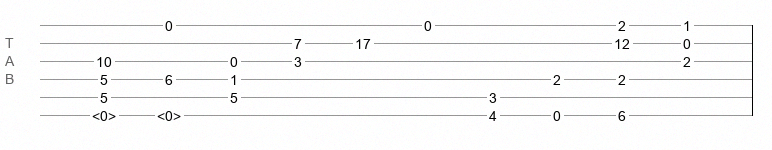0: (165, 18, 173, 28), (230, 54, 238, 64), (424, 18, 432, 28), (553, 108, 561, 118), (683, 36, 691, 46)
1: (230, 72, 238, 82), (683, 18, 691, 28)
10: (96, 54, 112, 64)
12: (614, 36, 630, 46)
17: (355, 36, 371, 46)
2: (553, 72, 561, 82), (618, 18, 626, 28), (618, 72, 626, 82), (683, 54, 691, 64)
3: (294, 54, 302, 64), (489, 90, 497, 100)
4: (489, 108, 497, 118)
5: (100, 72, 108, 82), (100, 90, 108, 100), (230, 90, 238, 100)
6: (165, 72, 173, 82), (618, 108, 626, 118)
7: (294, 36, 302, 46)
harmonic: (92, 108, 116, 118), (157, 108, 181, 118)
